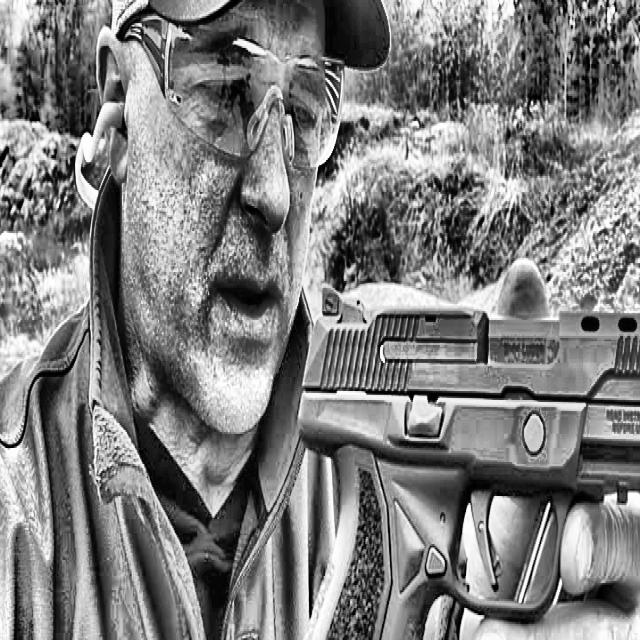Ruger: (279, 281, 640, 640)
